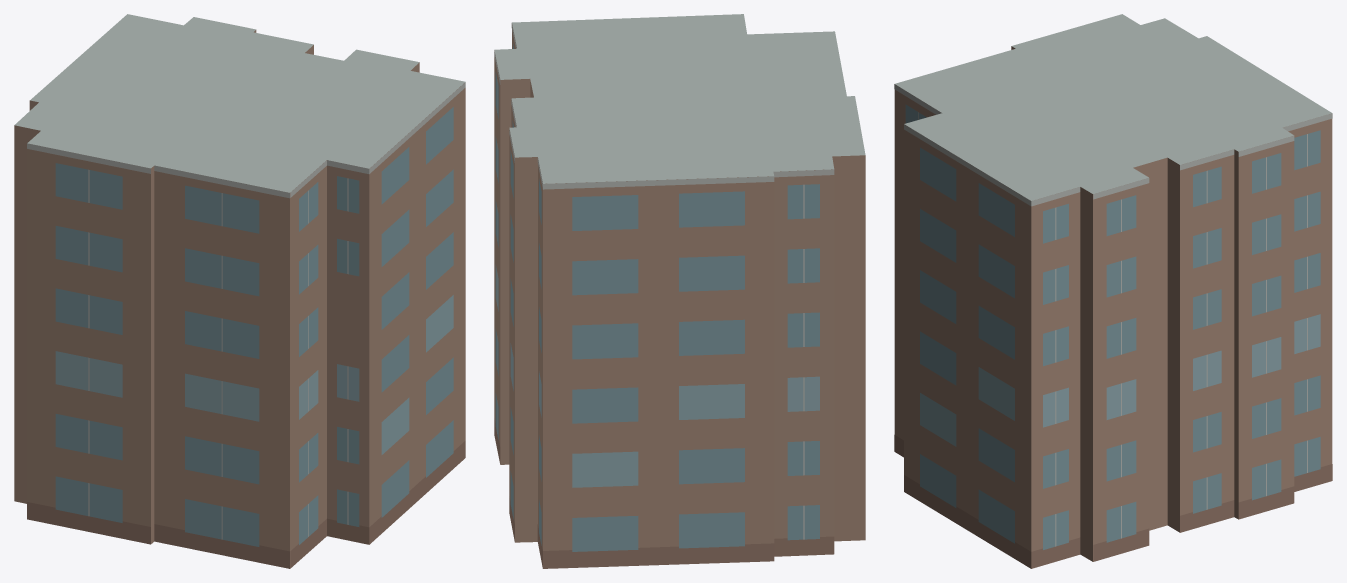
The model's file is survey-upis-32916456.glb.
3 views of the same model, side by side, from view 1: azimuth 30°, elevation 25°; view 2: azimuth 150°, elevation 25°; view 3: azimuth 270°, elevation 25° (orthographic). The views are drawn at different scales.
Visible parts, largest first — view 1: survey-upis-32916456.tmp; view 2: survey-upis-32916456.tmp; view 3: survey-upis-32916456.tmp.
Part boxes in pixels (x1,y1,x2,y2): survey-upis-32916456.tmp: [14, 14, 465, 568]; survey-upis-32916456.tmp: [494, 14, 865, 568]; survey-upis-32916456.tmp: [894, 14, 1332, 568].
Size of the model in its own units: 18.12 by 16.6 by 17.92.
